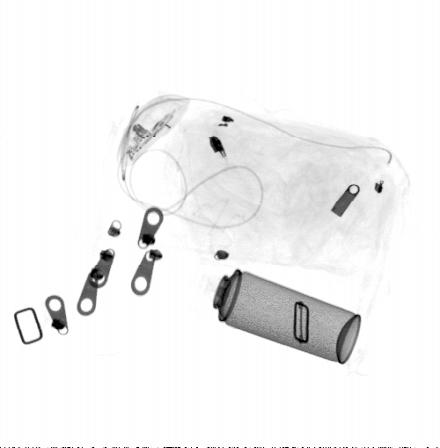Sprayer: (184, 255, 362, 366)
